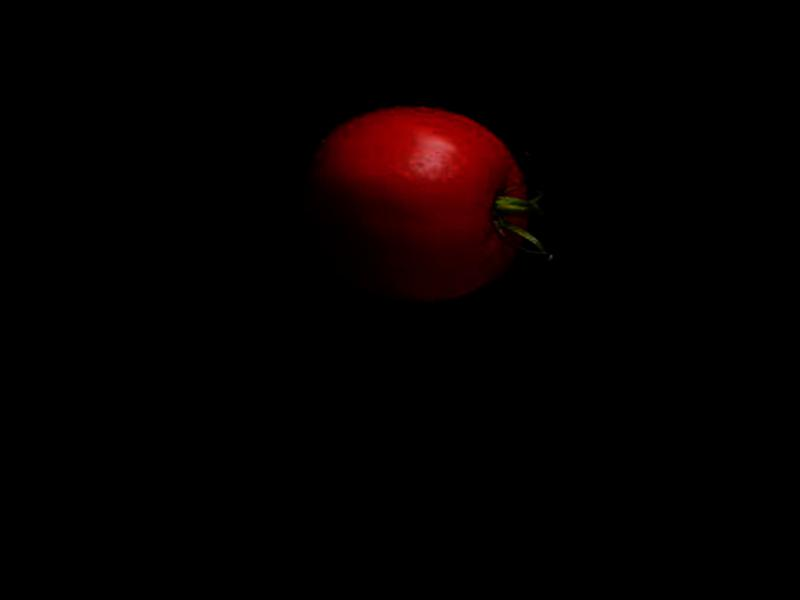Tomato: (299, 95, 539, 313)
